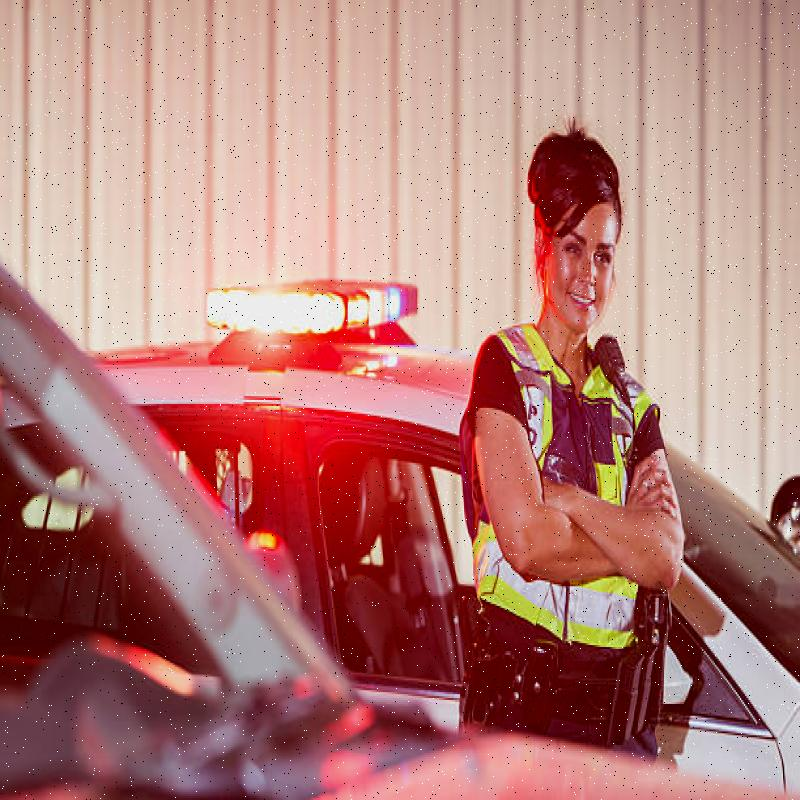AmbulanceSiren: (195, 248, 426, 378)
